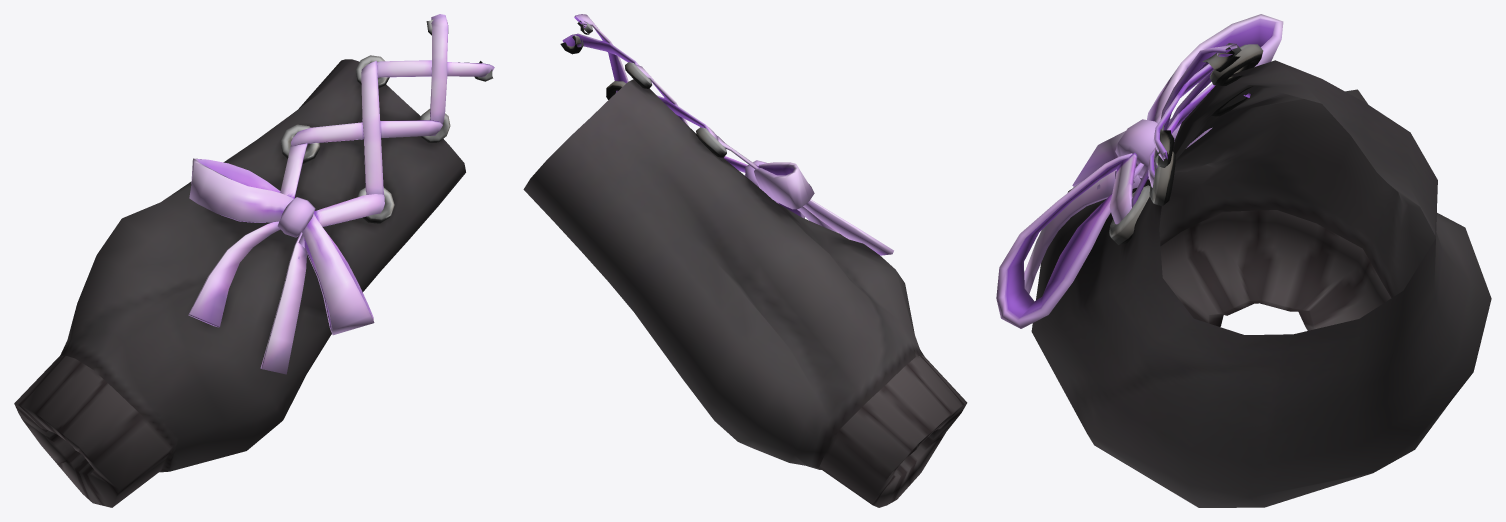
Rendered from arm_lower_R.obj.
The picture shows the model from 3 angles, left to right: view 1: azimuth 30°, elevation 25°; view 2: azimuth 150°, elevation 25°; view 3: azimuth 270°, elevation 25°; orthographic projection. The views are drawn at different scales.
Visible parts, largest first — view 1: arm_lower_R; view 2: arm_lower_R; view 3: arm_lower_R.
Part boxes in pixels (x1,y1,x2,y2): arm_lower_R: [14, 14, 494, 507]; arm_lower_R: [523, 14, 967, 507]; arm_lower_R: [996, 14, 1491, 507].
Bounding box in the file's own units: 0.3215 × 0.2926 × 0.1883.
Materials: 1 (1 with a texture image).
